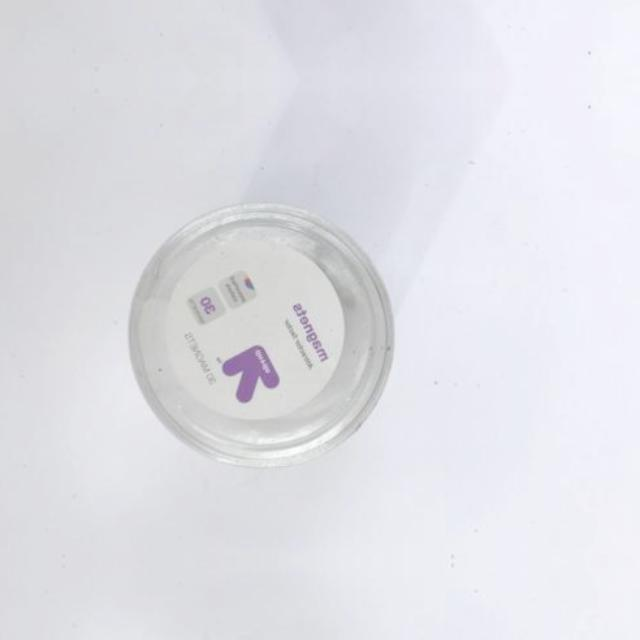Plastic: (119, 187, 444, 495), (119, 626, 444, 640)
